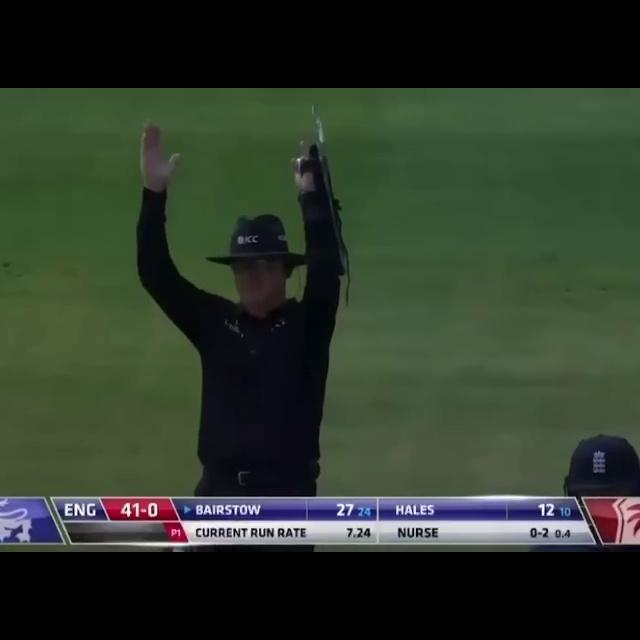umpire: (119, 95, 356, 490)
